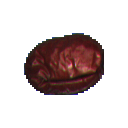ng: (18, 29, 109, 100)
